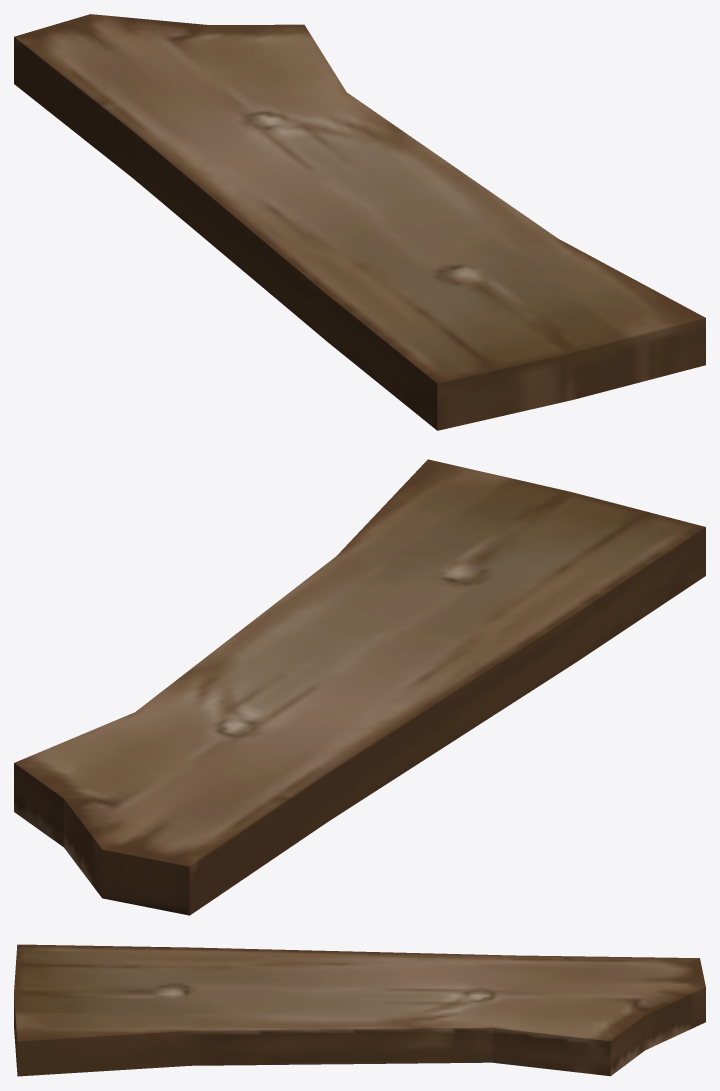
Rendered from FB5_mubankuai04.FBX.
The picture shows the model from 3 angles, top to bottom: view 1: azimuth 30°, elevation 25°; view 2: azimuth 150°, elevation 25°; view 3: azimuth 270°, elevation 25°; orthographic projection. The views are drawn at different scales.
Parts seen in each view (by area): view 1: FB5_mubankuai04; view 2: FB5_mubankuai04; view 3: FB5_mubankuai04.
Boxes of the visible parts, x1,y1,x2,y2 form: FB5_mubankuai04: (14, 14, 705, 430); FB5_mubankuai04: (14, 459, 705, 915); FB5_mubankuai04: (14, 944, 705, 1076).
Size of the model in its own units: 609 by 102 by 1835.
Materials: 1 (1 with a texture image).
